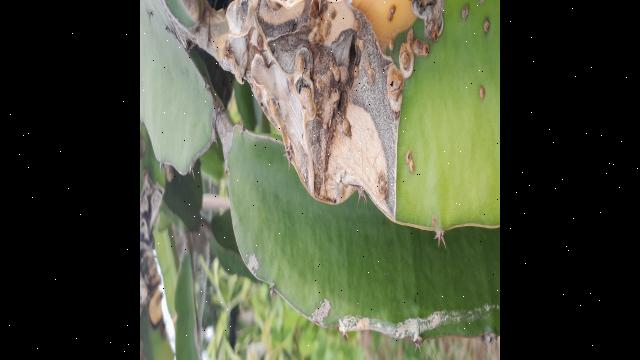stemcanker: (403, 143, 419, 178), (476, 82, 489, 110), (480, 15, 494, 39), (460, 3, 472, 26)
